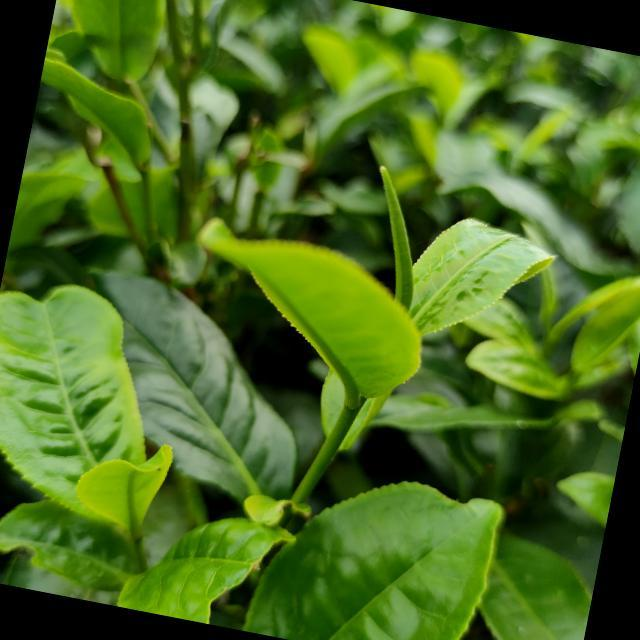Stem: (339, 407, 358, 424)
